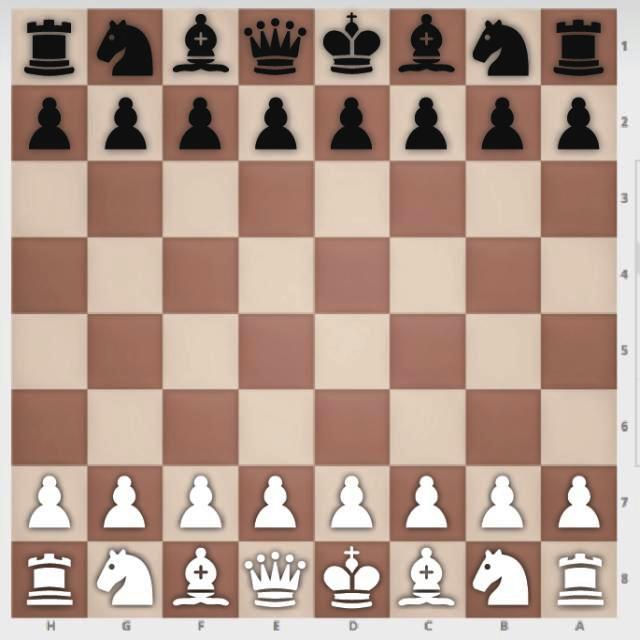chess-table-corners: (602, 600, 636, 634), (3, 604, 28, 634), (605, 0, 631, 26), (1, 0, 23, 24)
